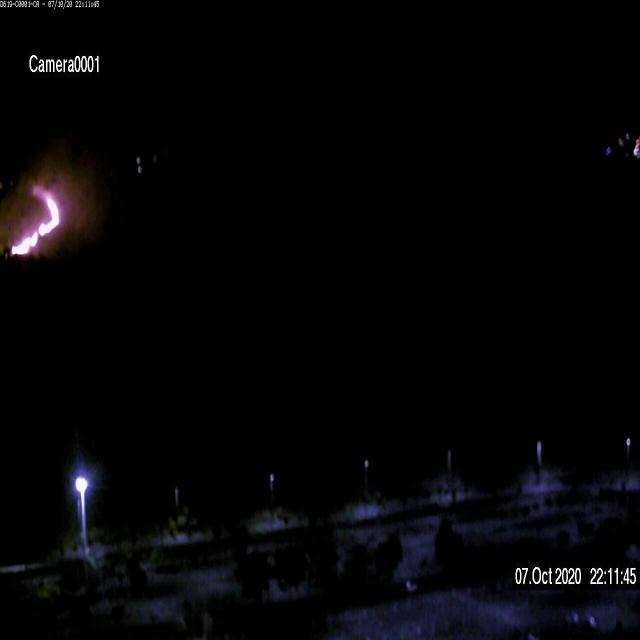Fire: (6, 182, 66, 254)
Smoke: (8, 156, 102, 252)
